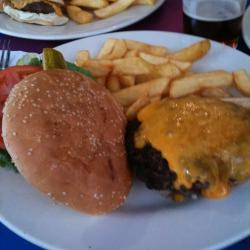burger: (2, 53, 124, 208)
fries: (94, 37, 237, 101)
